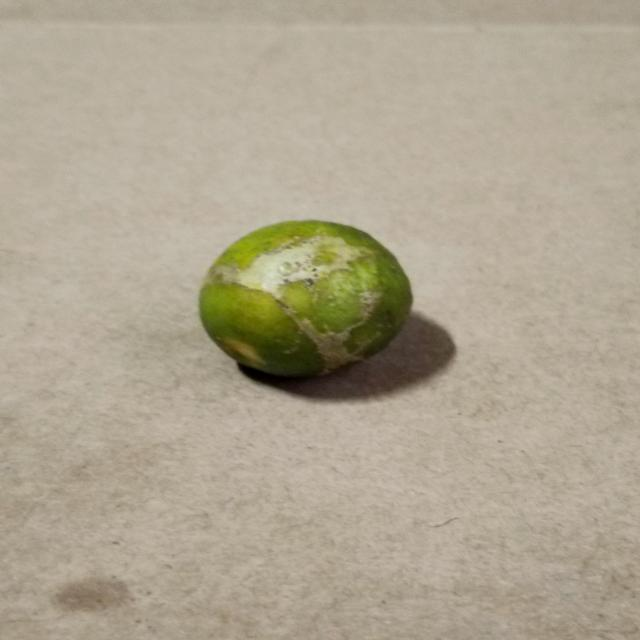thrips: (194, 218, 418, 388)
